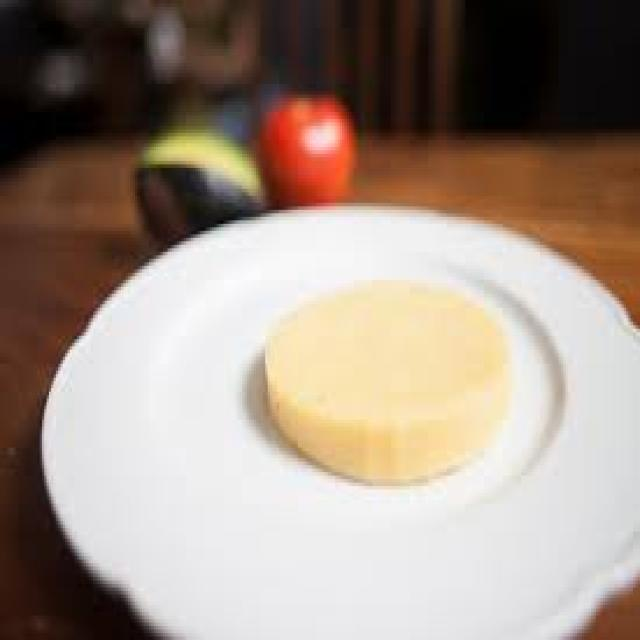cheese: (262, 280, 516, 481)
